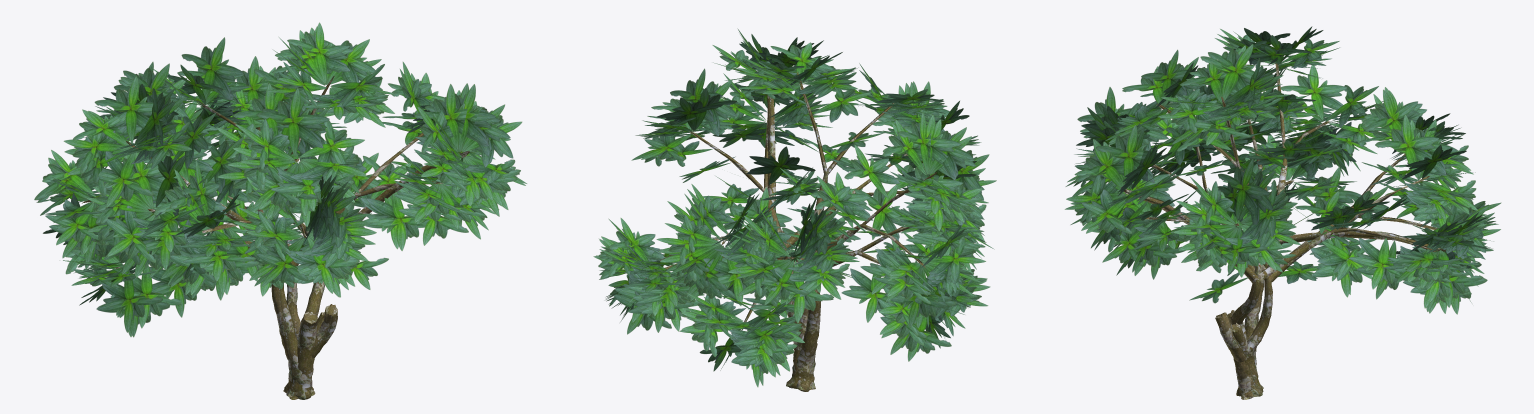
The model's file is bush_04_B_001.glb.
3 renders of one model, left to right at view 1: azimuth 30°, elevation 25°; view 2: azimuth 150°, elevation 25°; view 3: azimuth 270°, elevation 25°, orthographic. The views are drawn at different scales.
Parts seen in each view (by area): view 1: bush_04_B.001; view 2: bush_04_B.001; view 3: bush_04_B.001.
Boxes of the visible parts, x1,y1,x2,y2 form: bush_04_B.001: (34, 22, 526, 399); bush_04_B.001: (593, 28, 996, 391); bush_04_B.001: (1065, 26, 1501, 399).
Bounding box in the file's own units: 1.15 × 0.9326 × 1.14.
2 materials, 2 textured.
